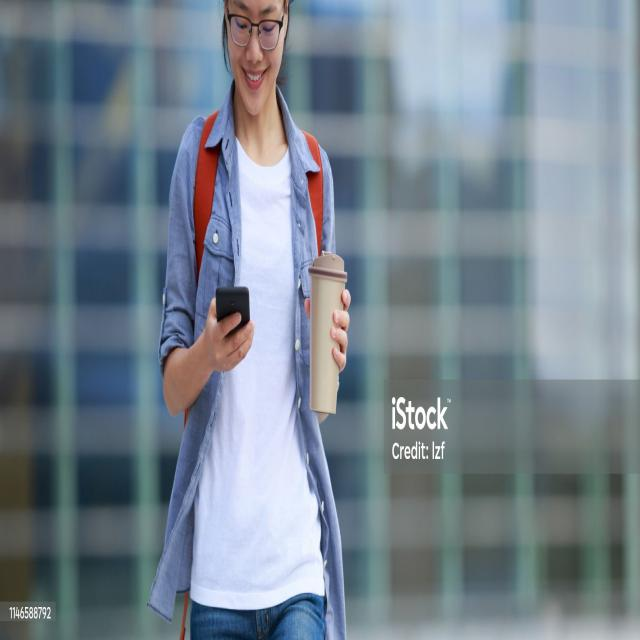cup: (307, 248, 347, 416)
